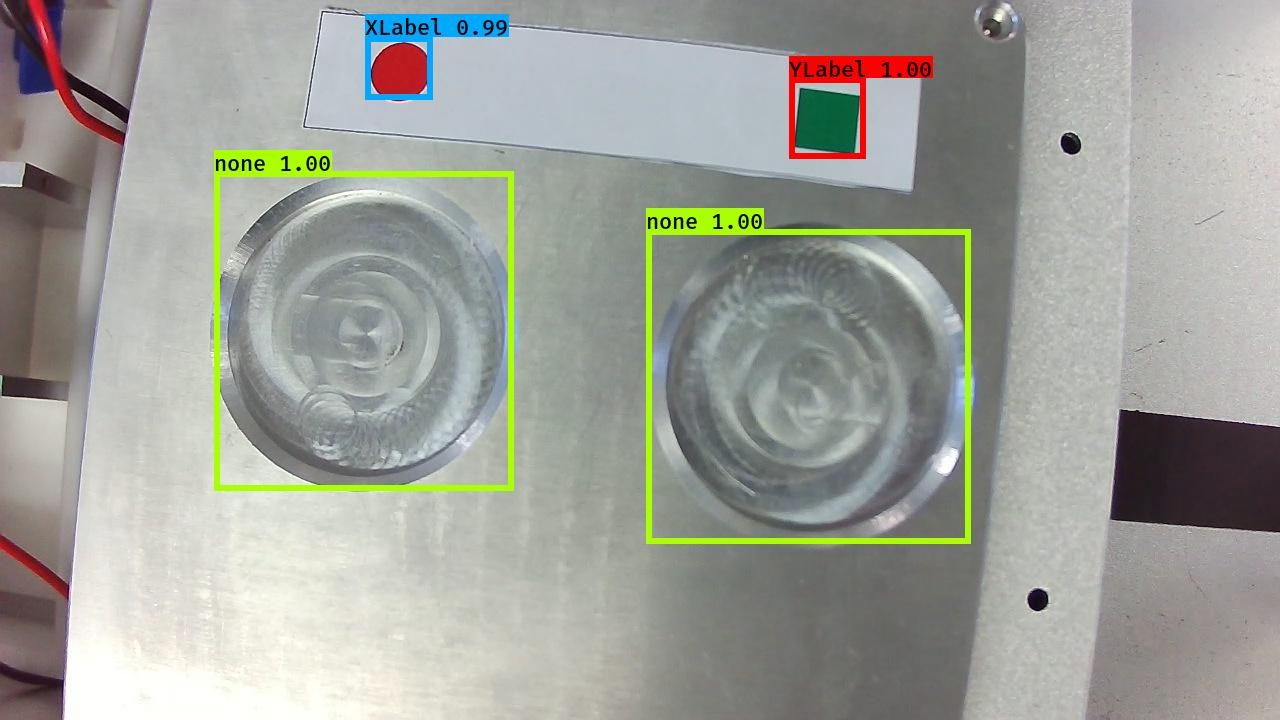XLabel: (366, 39, 433, 107)
YLabel: (790, 84, 866, 158)
none: (638, 215, 981, 558), (200, 166, 526, 499)
